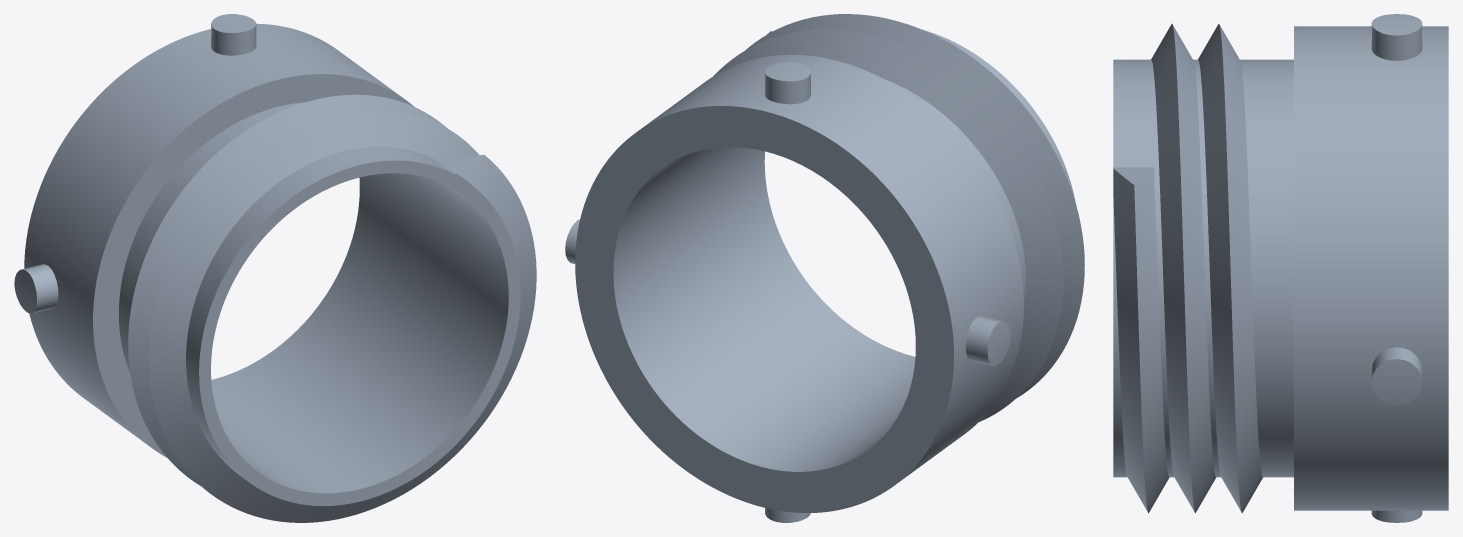
File: rbf.obj
3 renders of one model, left to right at view 1: azimuth 30°, elevation 25°; view 2: azimuth 150°, elevation 25°; view 3: azimuth 270°, elevation 25°, orthographic. The views are drawn at different scales.
Parts seen in each view (by area): view 1: 1; view 2: 1; view 3: 1.
Boxes of the visible parts, x1,y1,x2,y2 form: 1: (14, 14, 536, 522); 1: (565, 14, 1084, 522); 1: (1113, 14, 1448, 522).
Size of the model in its own units: 20.96 by 20.96 by 13.
